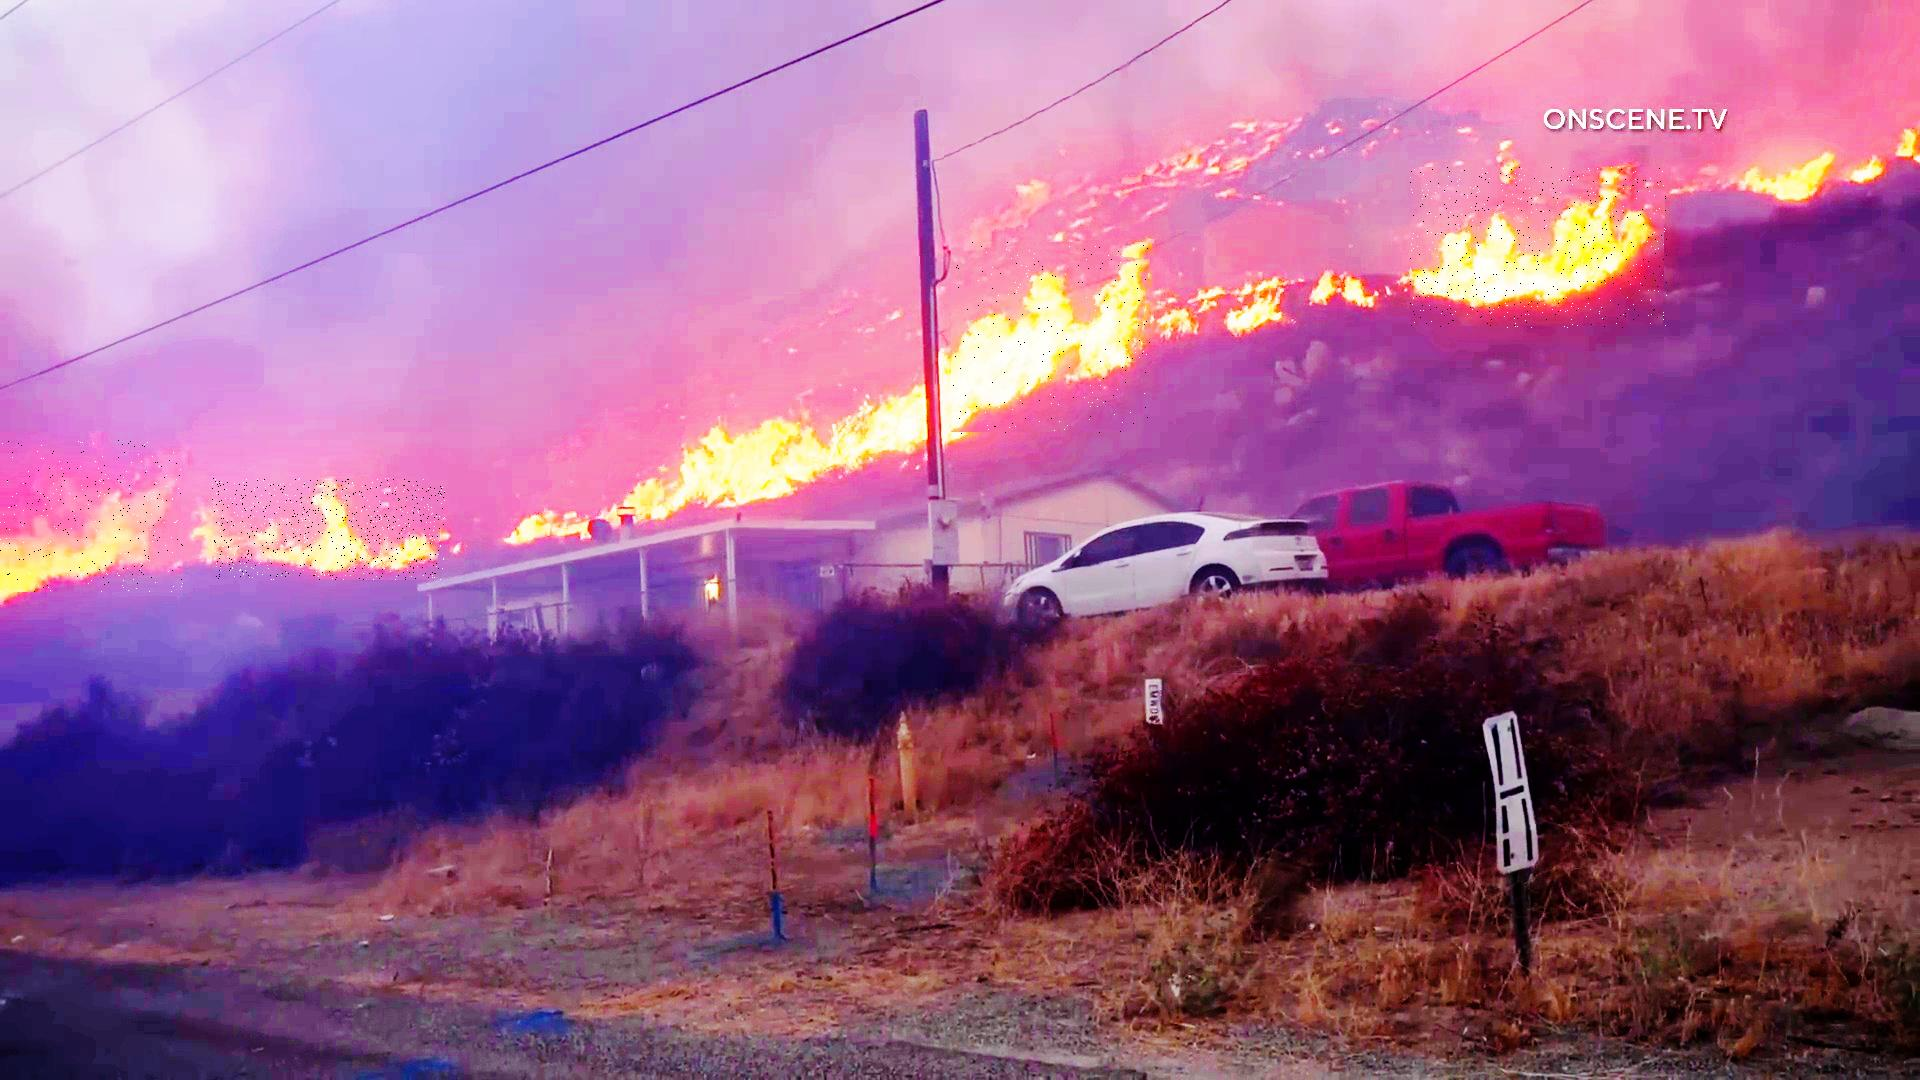fire: (1411, 167, 1668, 328), (951, 243, 1150, 435), (0, 440, 183, 592), (212, 479, 446, 580)
